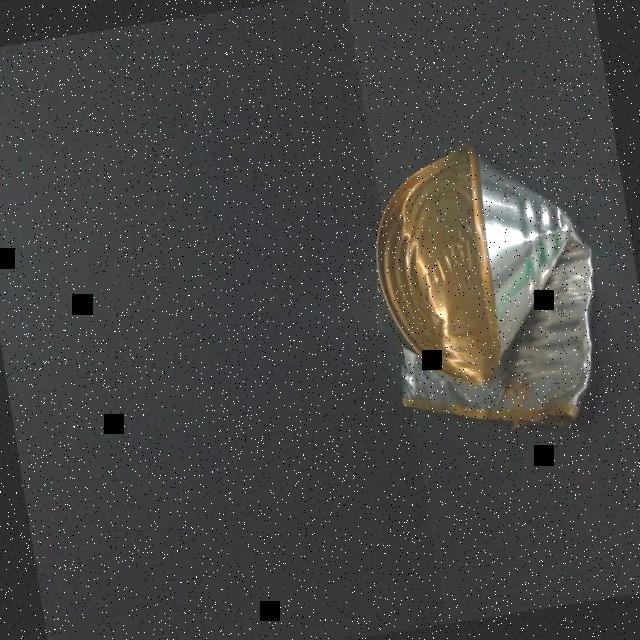can: (346, 120, 625, 460)
